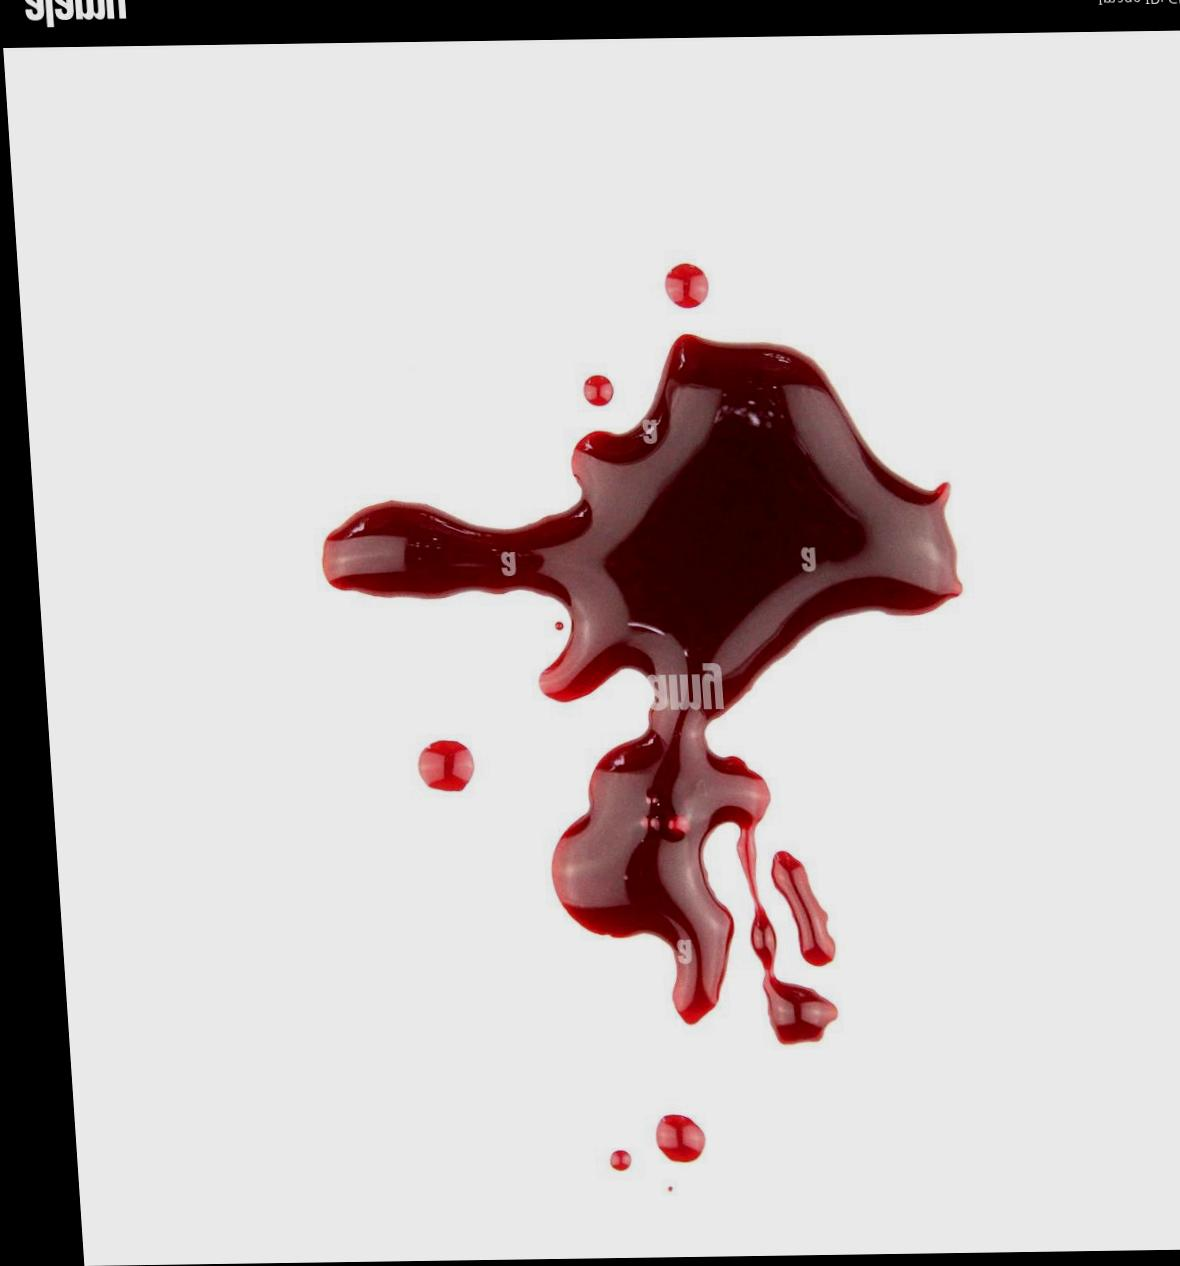Fire: (314, 336, 955, 1048), (757, 854, 822, 970), (406, 743, 464, 794), (639, 1117, 690, 1165), (660, 265, 704, 312), (577, 377, 608, 409)
